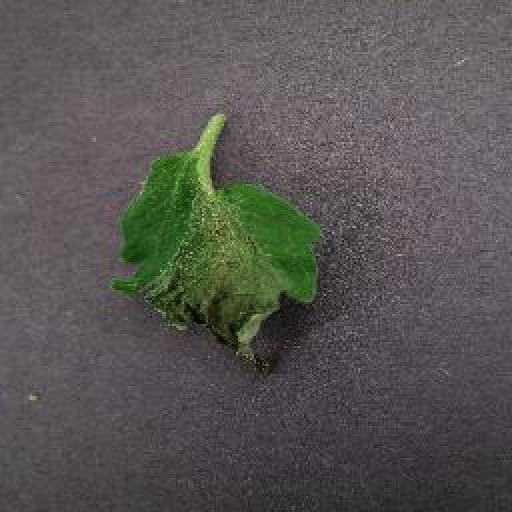disease_tomato: (106, 146, 328, 388)
